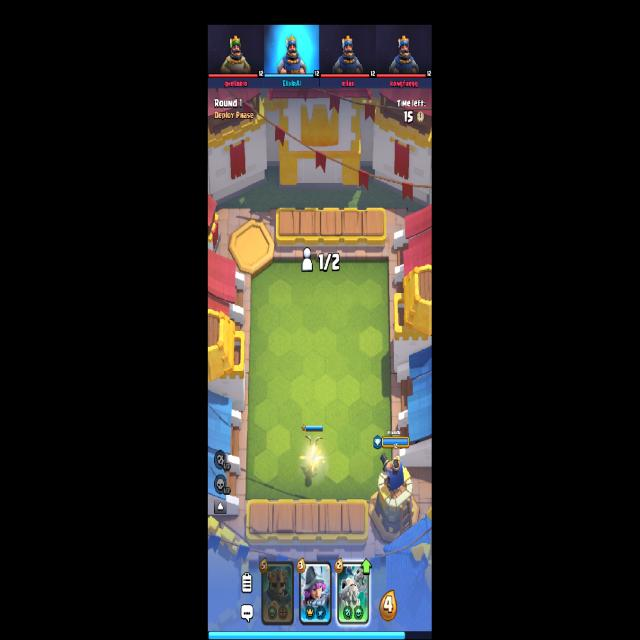card_musketeer: (300, 561, 332, 623)
card_skeleton_dragon: (337, 560, 369, 625)
card_skeleton_king: (260, 561, 294, 625)
skeleton_dragon: (305, 434, 322, 468)
